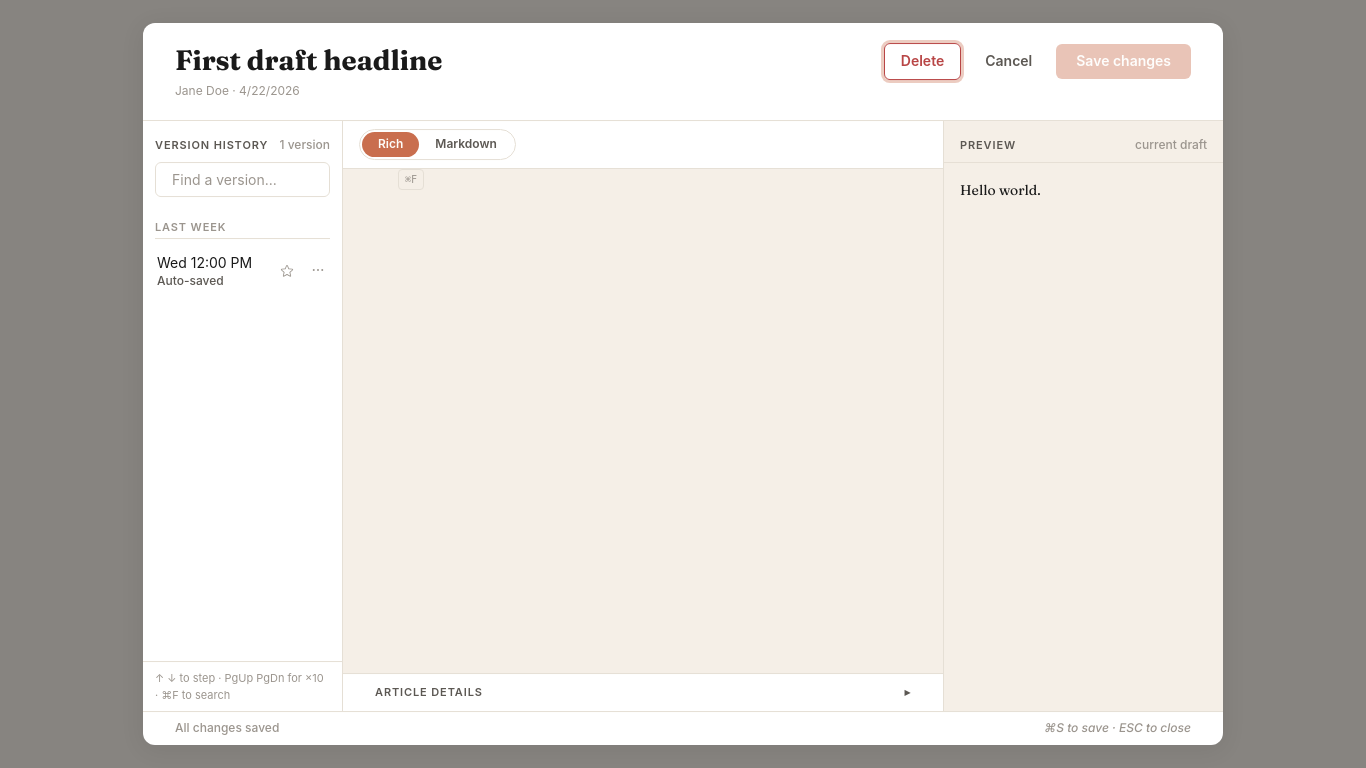
Test: <EditArticleModal> › Compare button opens the DiffViewer overlay
This screenshot has width=1366, height=768.
Select a snapshot so the right pane shows the Compare button.
Click the button with test id "article-history-row-snap-42".
click(242, 271)  # box [143,243,342,299]
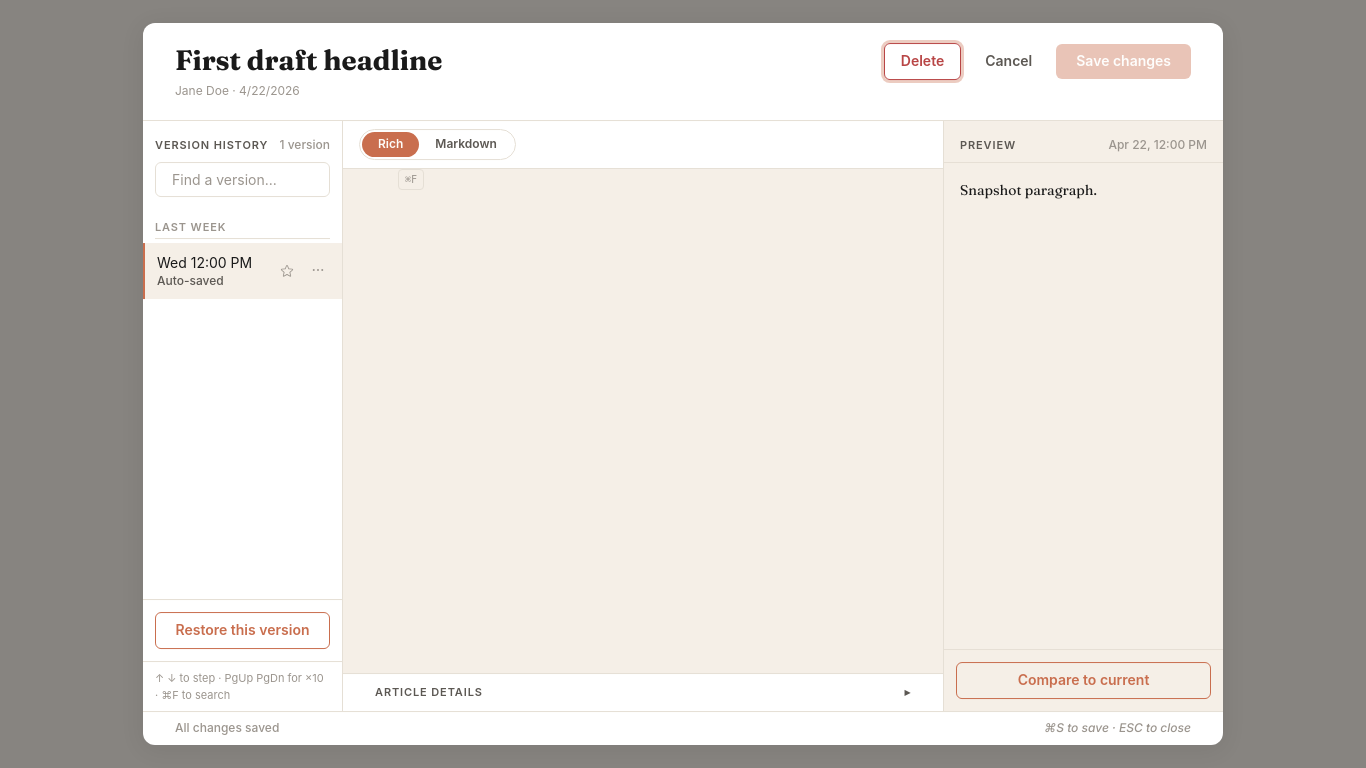
Click the button with test id "edit-article-compare".
click(1084, 681)  # box [956,662,1211,699]
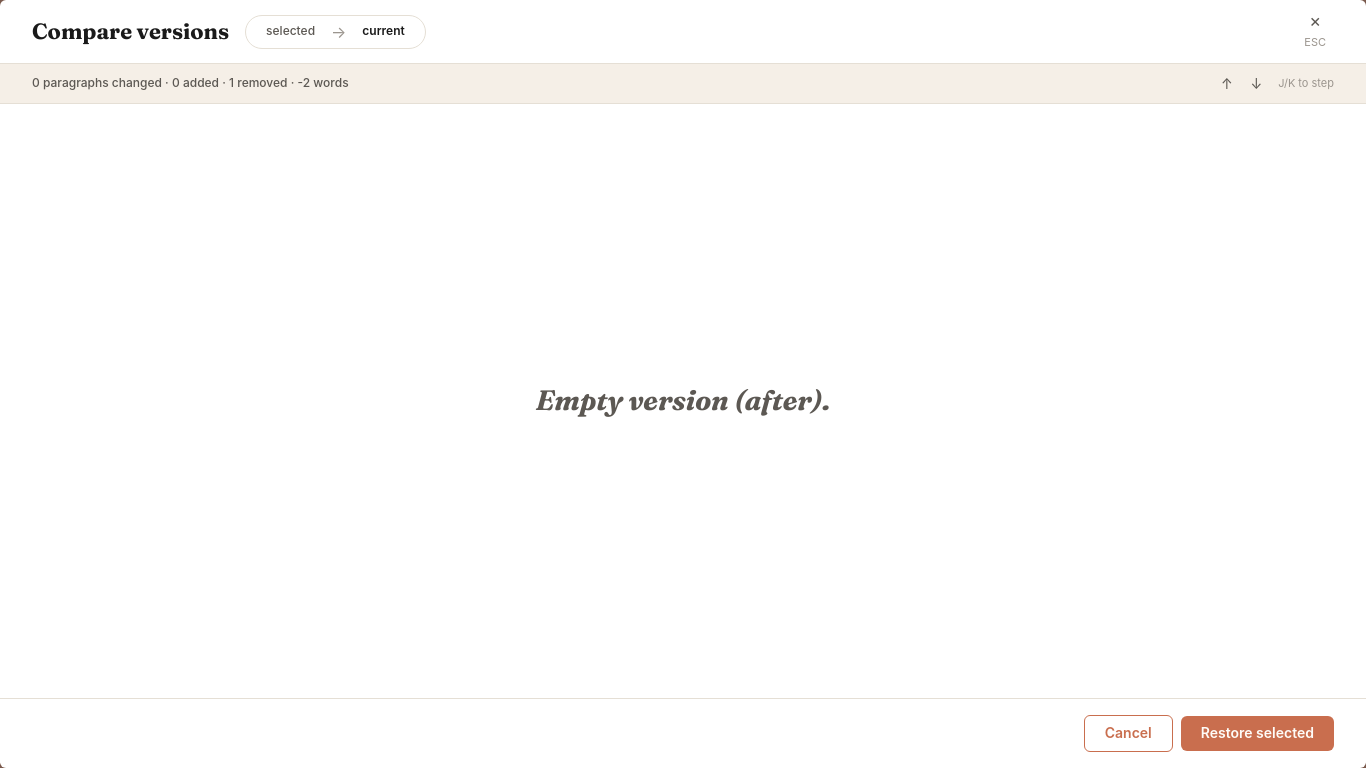
expect the dialog with test id "diff-viewer" is shown: met
